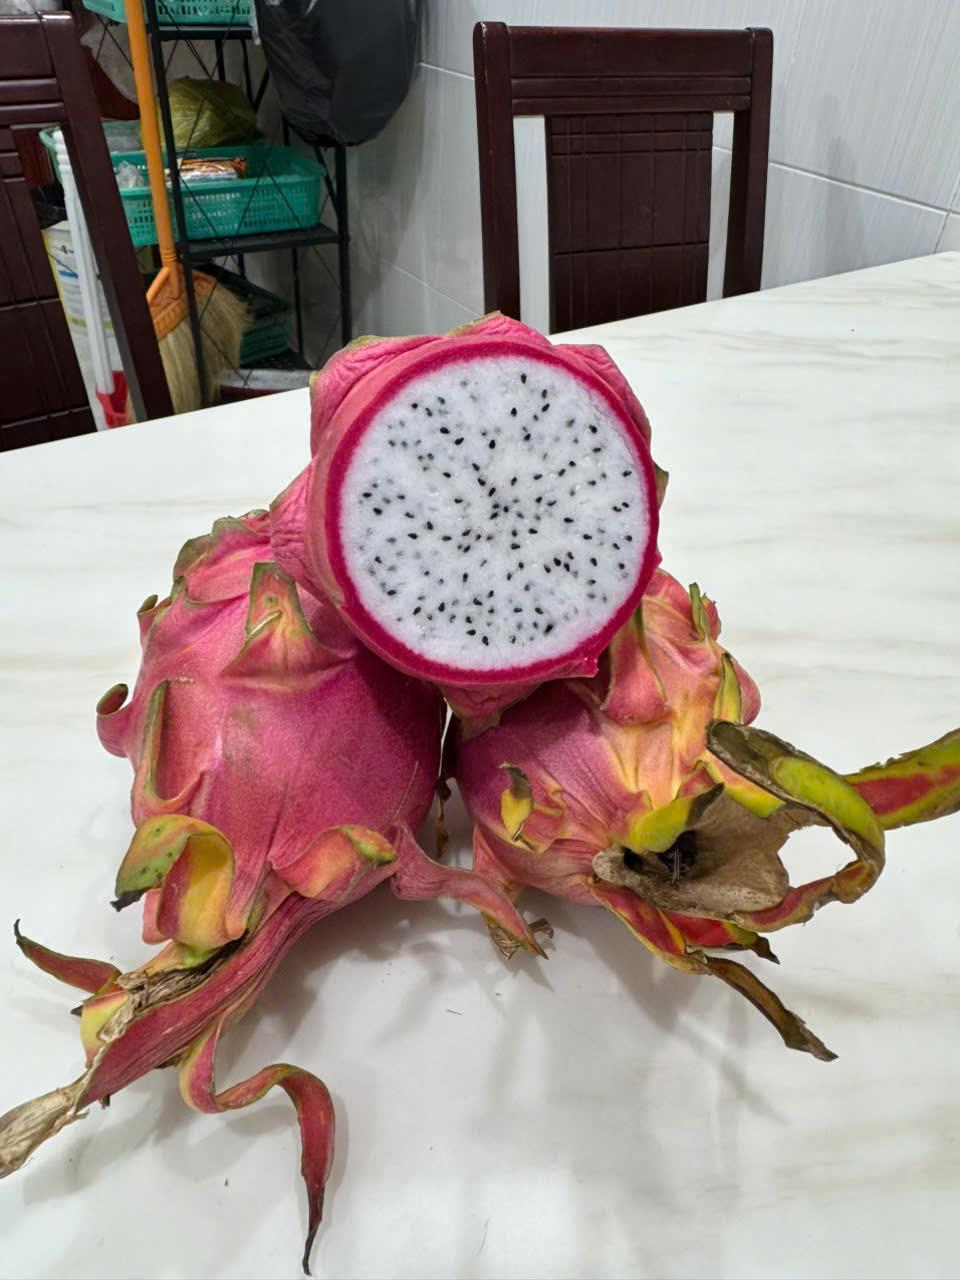dragon fruit: (17, 544, 443, 1233), (452, 680, 960, 1074), (270, 306, 688, 708)
